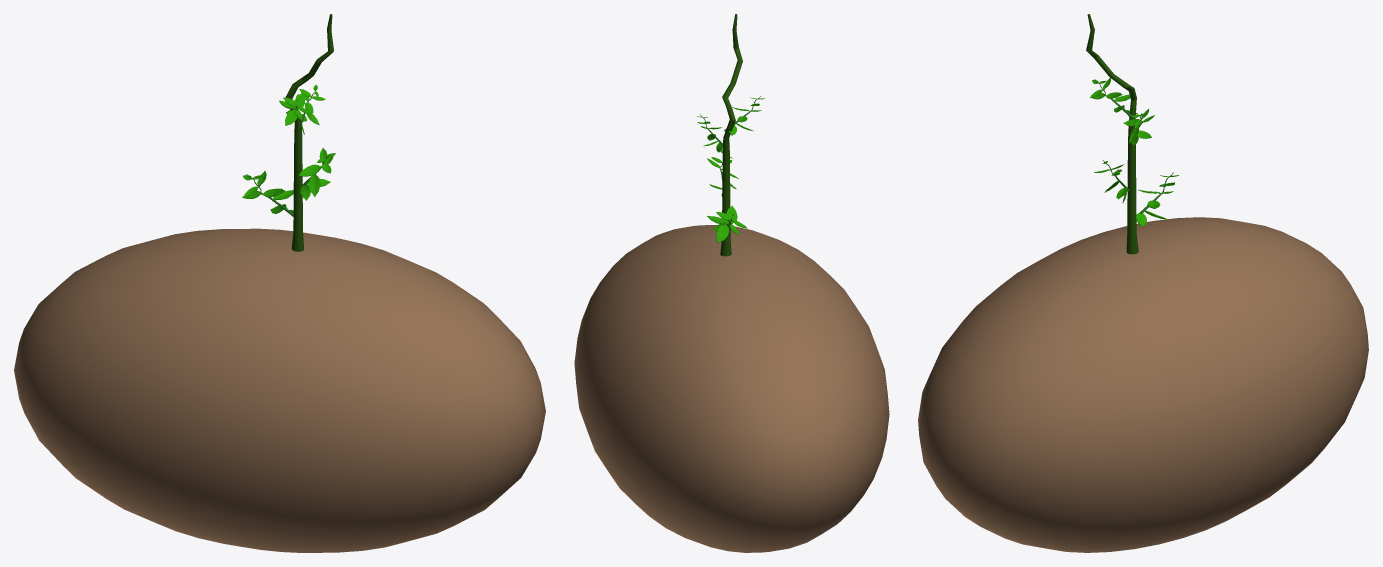
The model's file is Potato1.fbx.
The picture shows the model from 3 angles, left to right: view 1: azimuth 30°, elevation 25°; view 2: azimuth 150°, elevation 25°; view 3: azimuth 270°, elevation 25°; orthographic projection. The views are drawn at different scales.
Parts seen in each view (by area): view 1: Sphere.015, Cylinder.007; view 2: Sphere.015, Cylinder.007; view 3: Sphere.015, Cylinder.007.
Part boxes in pixels (<box>): Sphere.015: <box>14,228,545,552</box>; Cylinder.007: <box>242,14,335,251</box>; Sphere.015: <box>574,225,889,552</box>; Cylinder.007: <box>697,14,765,256</box>; Sphere.015: <box>918,217,1368,552</box>; Cylinder.007: <box>1086,14,1179,254</box>.
Size of the model in its own units: 4.54 by 6 by 4.7.
